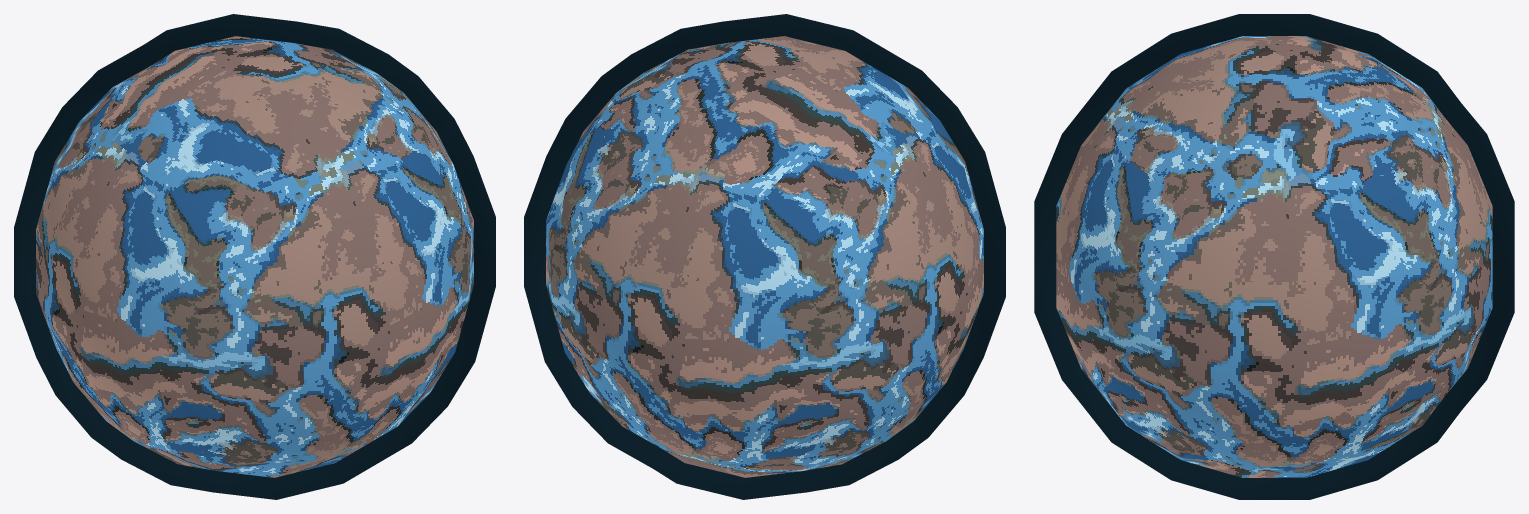
The model's file is pixel_planet_6.glb.
3 renders of one model, left to right at view 1: azimuth 30°, elevation 25°; view 2: azimuth 150°, elevation 25°; view 3: azimuth 270°, elevation 25°, orthographic.
Visible parts, largest first — view 1: Object_2; view 2: Object_2; view 3: Object_2.
Part boxes in pixels (left/top/right/bottom): Object_2: left=14, top=14, right=495, bottom=499; Object_2: left=524, top=14, right=1005, bottom=499; Object_2: left=1034, top=14, right=1514, bottom=499.
Size of the model in its own units: 3.7 by 3.7 by 3.7.
Materials: 1 (1 with a texture image).
